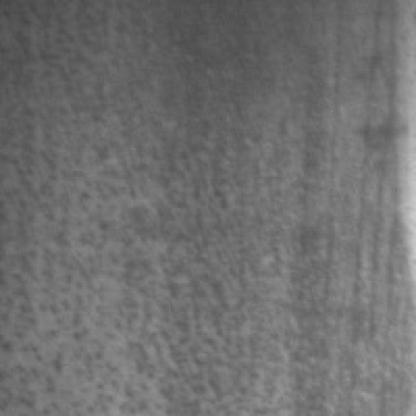pitted_surface: (10, 6, 312, 410)
